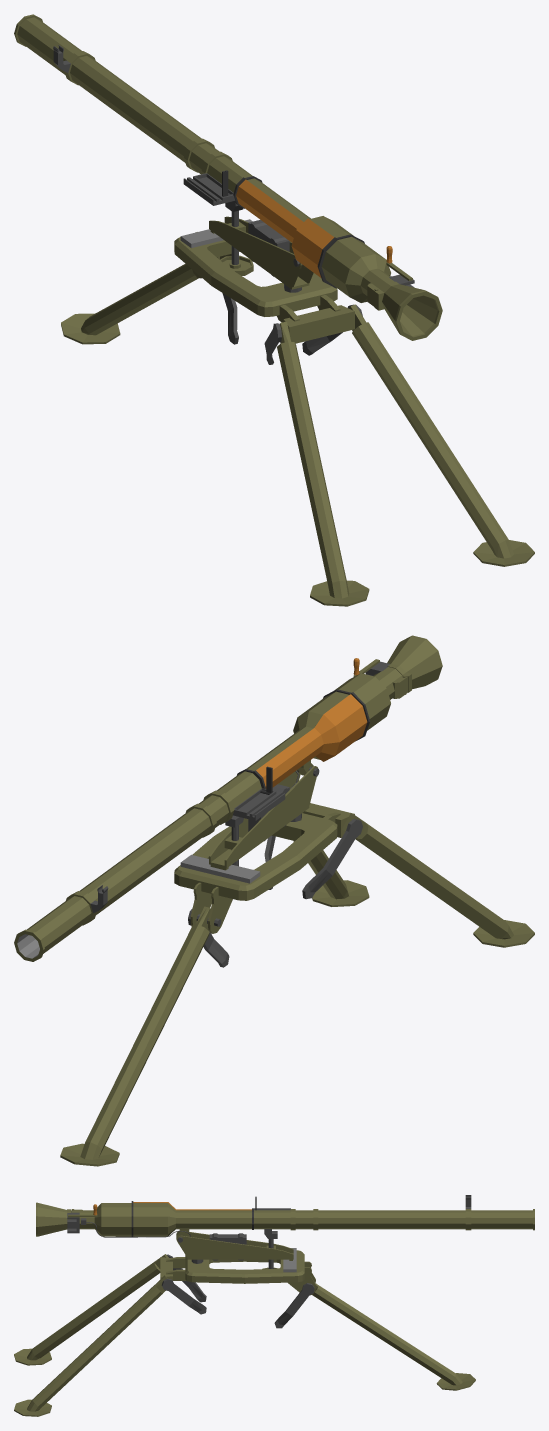
Rendered from SPG9.fbx.
3 renders of one model, top to bottom at view 1: azimuth 30°, elevation 25°; view 2: azimuth 150°, elevation 25°; view 3: azimuth 270°, elevation 25°, orthographic. The views are drawn at different scales.
Parts seen in each view (by area): view 1: SPG_9, Gun, Bolt; view 2: SPG_9, Gun, Bolt; view 3: Gun, SPG_9, Bolt.
Part boxes in pixels (box(x1,y1,x2,y2)): SPG_9: box(61, 219, 534, 606); Gun: box(14, 14, 394, 306); Bolt: box(374, 246, 442, 340); SPG_9: box(60, 803, 534, 1166); Gun: box(14, 667, 407, 961); Bolt: box(353, 635, 442, 694); Gun: box(71, 1195, 534, 1269); SPG_9: box(14, 1248, 475, 1416); Bolt: box(36, 1202, 97, 1236).
Size of the model in its own units: 203 by 261 by 665.
1 material, 1 textured.
